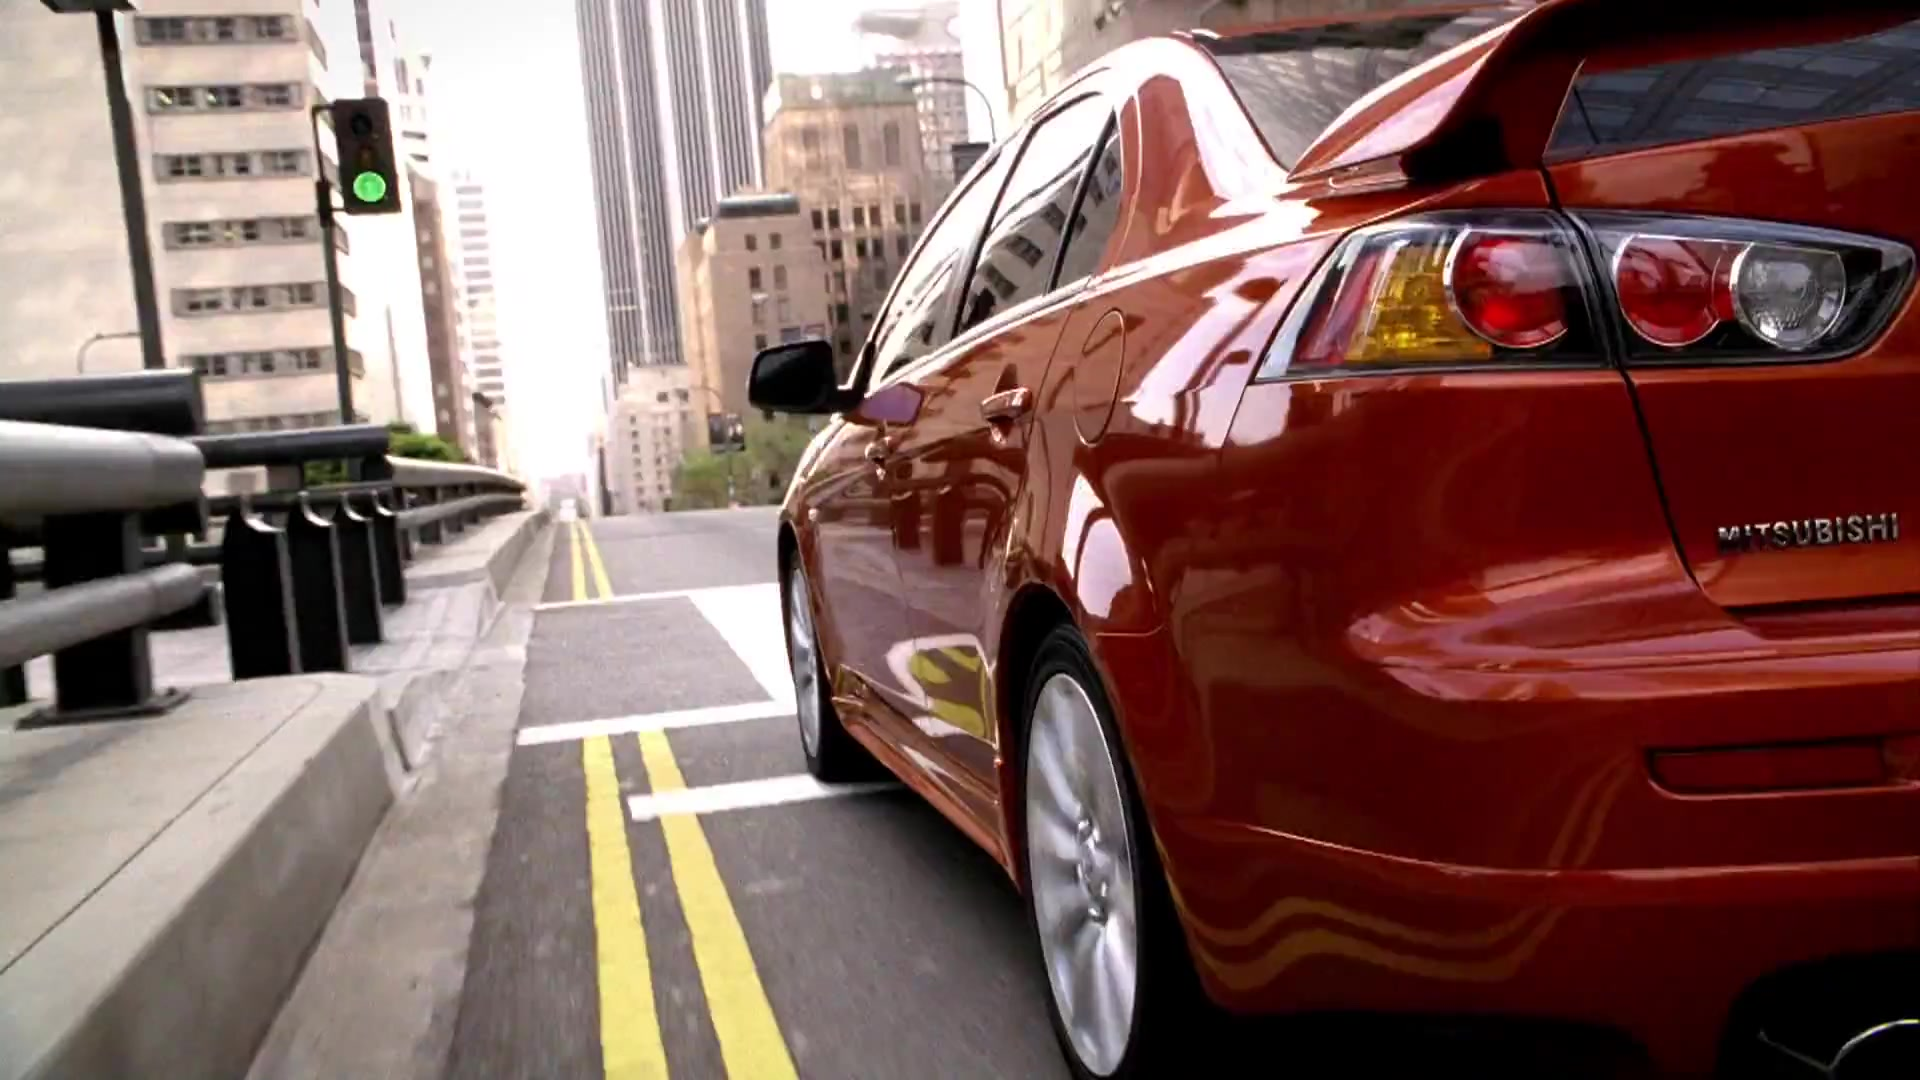car: (741, 7, 1920, 1072)
